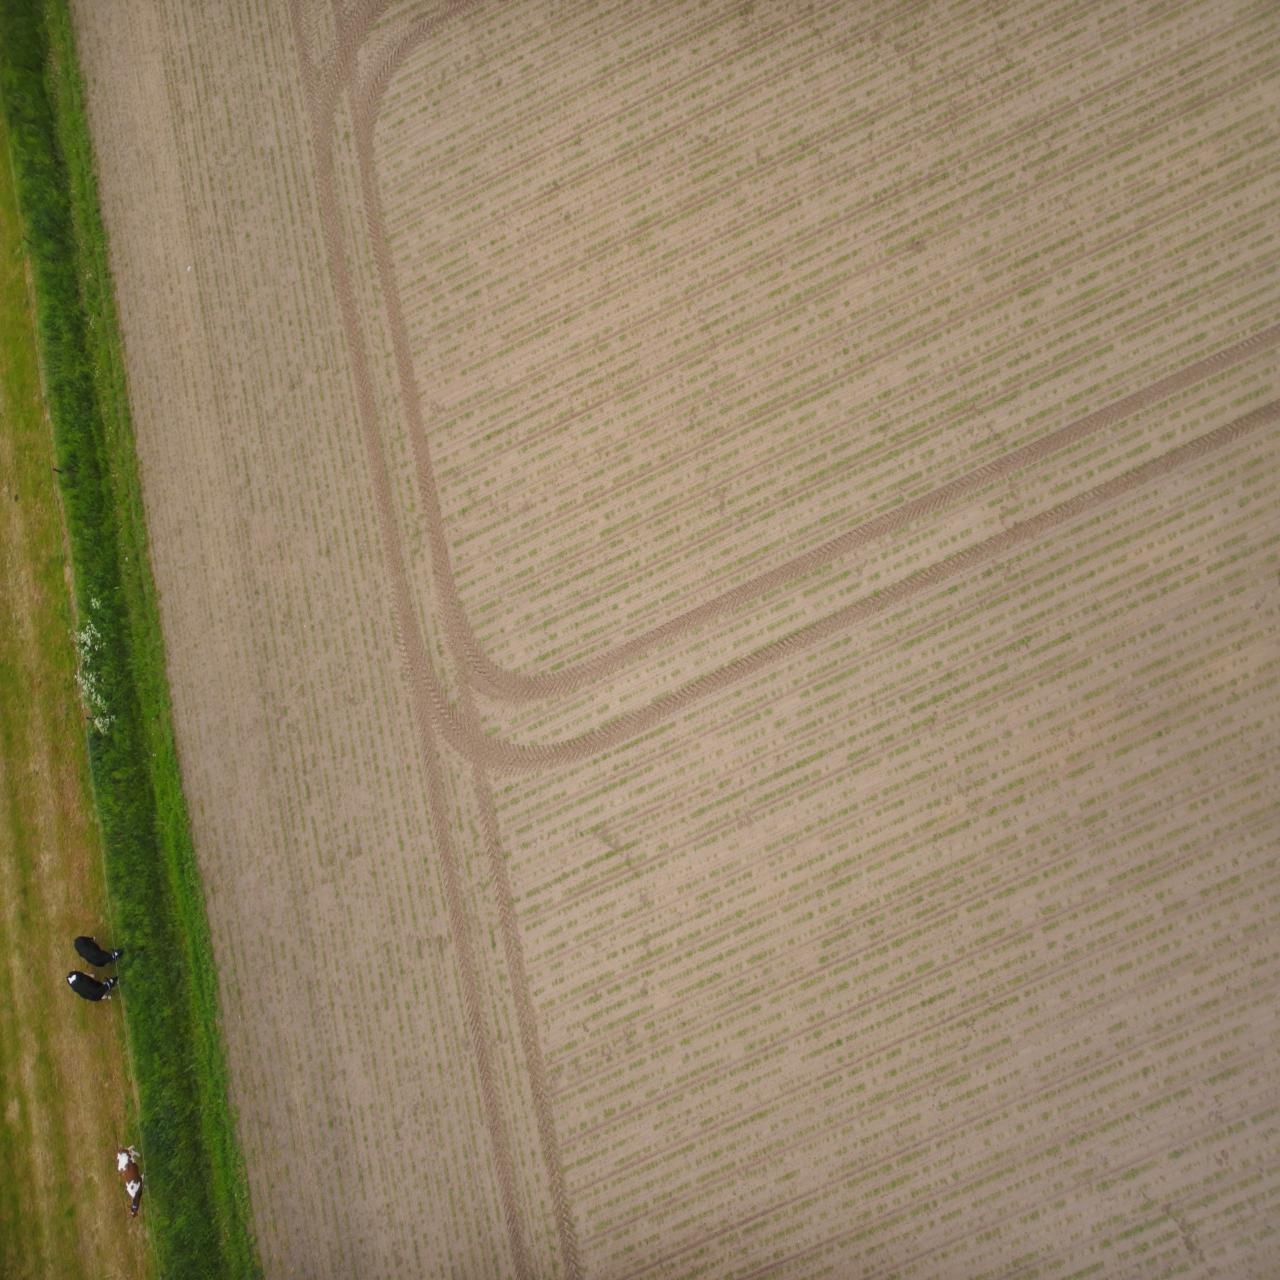cow: (1133, 62, 1163, 136), (1162, 279, 1213, 309), (1157, 313, 1206, 343)
